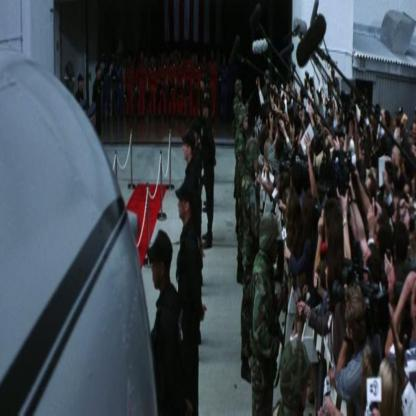face: (363, 247, 372, 285), (374, 199, 383, 233), (388, 265, 395, 300), (153, 260, 161, 289), (411, 280, 416, 320), (366, 177, 372, 206), (179, 195, 186, 219), (394, 194, 401, 218), (375, 221, 380, 248), (183, 142, 189, 160), (400, 199, 406, 217), (244, 114, 250, 131), (254, 153, 259, 173), (403, 155, 408, 175), (383, 167, 388, 186), (392, 147, 396, 163), (204, 106, 208, 118), (362, 148, 365, 164), (80, 80, 84, 90), (99, 67, 102, 80), (384, 115, 387, 127), (394, 116, 397, 128), (414, 123, 416, 139), (240, 87, 243, 96)
